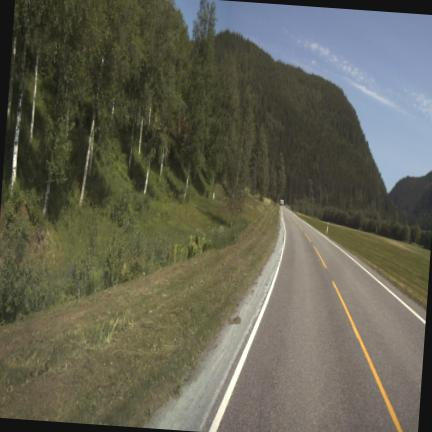Road: (217, 208, 424, 431)
